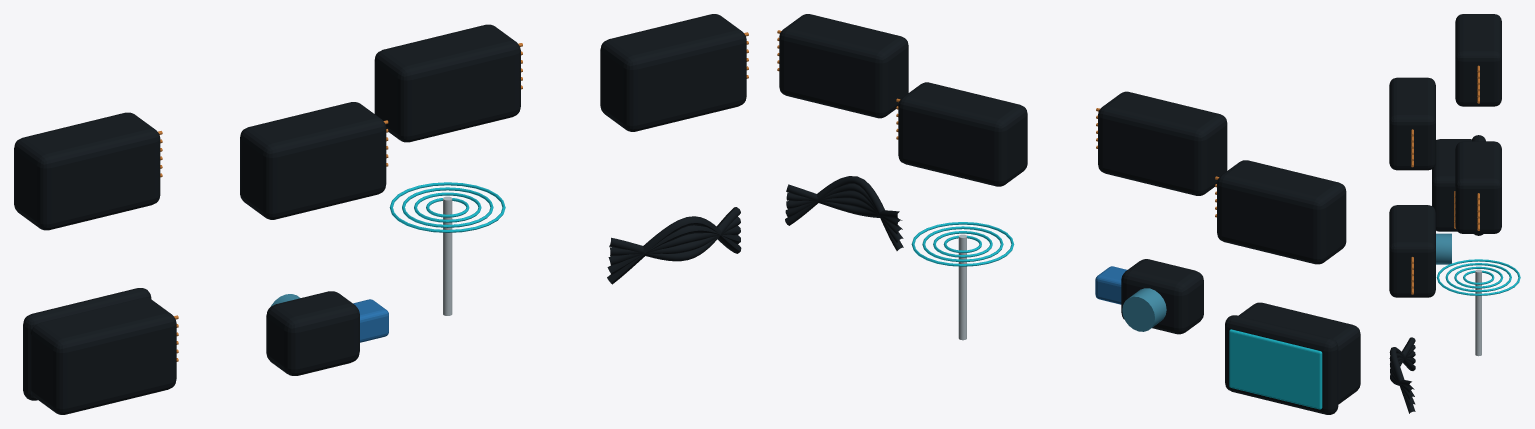
The model's file is generic_infotainment.glb.
3 views of the same model, side by side, from view 1: azimuth 30°, elevation 25°; view 2: azimuth 150°, elevation 25°; view 3: azimuth 270°, elevation 25° (orthographic). The views are drawn at different scales.
Parts seen in each view (by area): view 1: system_mesh__bluetooth_module__housing, system_mesh__wifi_module__housing, system_mesh__steering_controls__housing, system_mesh__cellular_module__housing, system_mesh__phone_projection_module__housing, system_mesh__oem_dashcam__sealed_body, system_mesh__phone_projection_module__frame, system_mesh__audio_bus__route_1, system_mesh__oem_dashcam__connector, system_mesh__antenna_network__mast, system_mesh__audio_bus__route_5, system_mesh__antenna_network__signal_4 (+4 smaller); view 2: system_mesh__bluetooth_module__housing, system_mesh__cellular_module__housing, system_mesh__steering_controls__housing, system_mesh__wifi_module__housing, system_mesh__phone_projection_module__surface, system_mesh__oem_dashcam__sealed_body, system_mesh__phone_projection_module__frame, system_mesh__phone_projection_module__housing, system_mesh__oem_dashcam__sensing_element, system_mesh__audio_bus__route_1, system_mesh__oem_dashcam__connector, system_mesh__antenna_network__mast (+6 smaller); view 3: system_mesh__wifi_module__housing, system_mesh__steering_controls__housing, system_mesh__bluetooth_module__housing, system_mesh__cellular_module__housing, system_mesh__phone_projection_module__housing, system_mesh__antenna_network__mast, system_mesh__antenna_network__signal_4, system_mesh__oem_dashcam__sensing_element, system_mesh__audio_bus__route_1, system_mesh__antenna_network__signal_3, system_mesh__antenna_network__signal_2, system_mesh__audio_bus__route_5 (+4 smaller).
Boxes of the visible parts, x1,y1,x2,y2 form: system_mesh__bluetooth_module__housing: (14,112,160,230); system_mesh__wifi_module__housing: (240,102,386,219); system_mesh__steering_controls__housing: (600,14,746,131); system_mesh__cellular_module__housing: (374,24,520,142); system_mesh__phone_projection_module__housing: (30,297,176,414); system_mesh__oem_dashcam__sealed_body: (266,291,359,375); system_mesh__phone_projection_module__frame: (23,288,151,400); system_mesh__audio_bus__route_1: (607,216,741,284); system_mesh__oem_dashcam__connector: (353,299,388,342); system_mesh__antenna_network__mast: (443,196,452,315); system_mesh__audio_bus__route_5: (609,207,740,261); system_mesh__antenna_network__signal_4: (389,182,505,232); system_mesh__bluetooth_module__housing: (1217,160,1346,264); system_mesh__cellular_module__housing: (898,82,1027,186); system_mesh__steering_controls__housing: (779,14,908,118); system_mesh__wifi_module__housing: (1098,91,1227,195); system_mesh__phone_projection_module__surface: (1229,329,1322,409); system_mesh__oem_dashcam__sealed_body: (1121,259,1203,334); system_mesh__phone_projection_module__frame: (1225,315,1338,414); system_mesh__phone_projection_module__housing: (1238,302,1360,404); system_mesh__oem_dashcam__sensing_element: (1122,288,1166,331); system_mesh__audio_bus__route_1: (785,176,903,250); system_mesh__oem_dashcam__connector: (1095,266,1126,304); system_mesh__antenna_network__mast: (958,234,966,340); system_mesh__wifi_module__housing: (1389,77,1435,170); system_mesh__steering_controls__housing: (1389,205,1435,297); system_mesh__bluetooth_module__housing: (1455,14,1501,106); system_mesh__cellular_module__housing: (1455,141,1501,233); system_mesh__phone_projection_module__housing: (1432,139,1471,231); system_mesh__antenna_network__mast: (1475,269,1481,356); system_mesh__antenna_network__signal_4: (1436,259,1520,295); system_mesh__oem_dashcam__sensing_element: (1436,233,1451,264); system_mesh__audio_bus__route_1: (1389,347,1415,413); system_mesh__antenna_network__signal_3: (1445,263,1511,292); system_mesh__antenna_network__signal_2: (1454,266,1503,288); system_mesh__audio_bus__route_5: (1390,337,1415,387).
Size of the model in its own units: 5.83 by 2.2 by 1.35.
